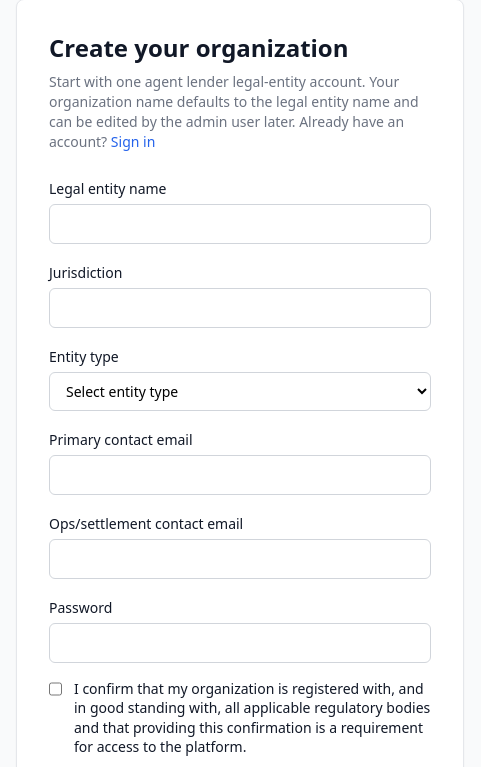
it: AgentRegisterPage › shows an error when ops/settlement email has an invalid format
The width and height of the screenshot is (481, 767).
Step 1. Type "not-an-email" into the field labelled "Ops/settlement contact email" → [240, 559], box [49,539,431,579]
(page scrolled)
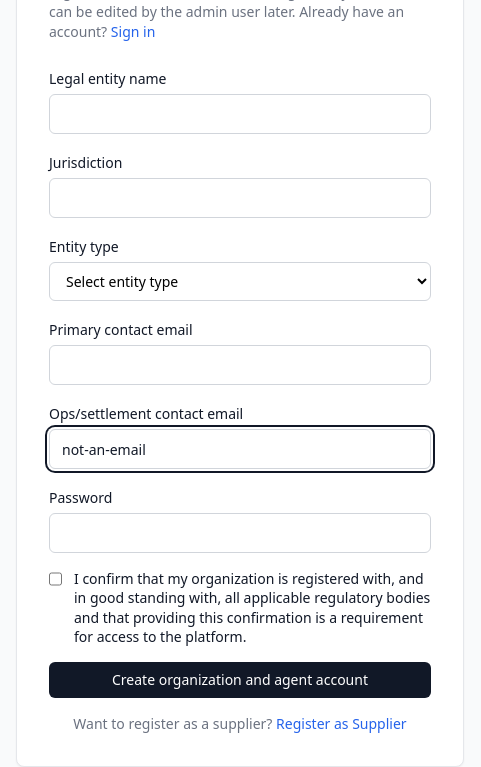
Step 2. Click the button "Create organization and agent account" → [240, 680], box [49,662,431,698]
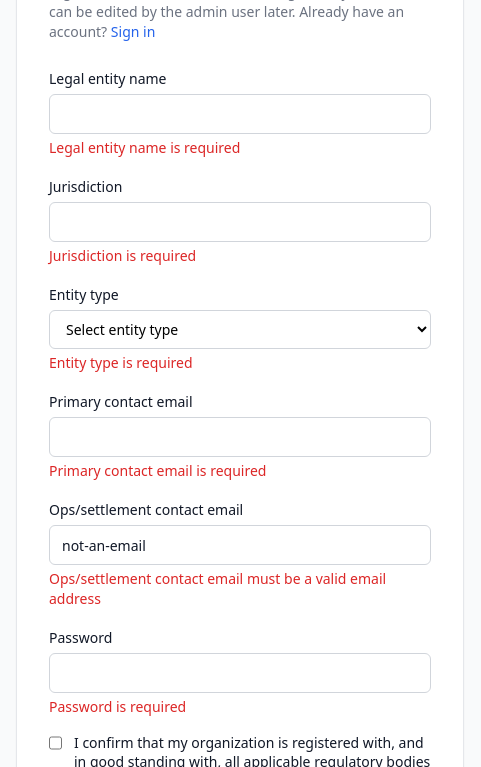
Now the text "Ops/settlement contact email must be a valid email address" is shown, box [49,569,431,609]
